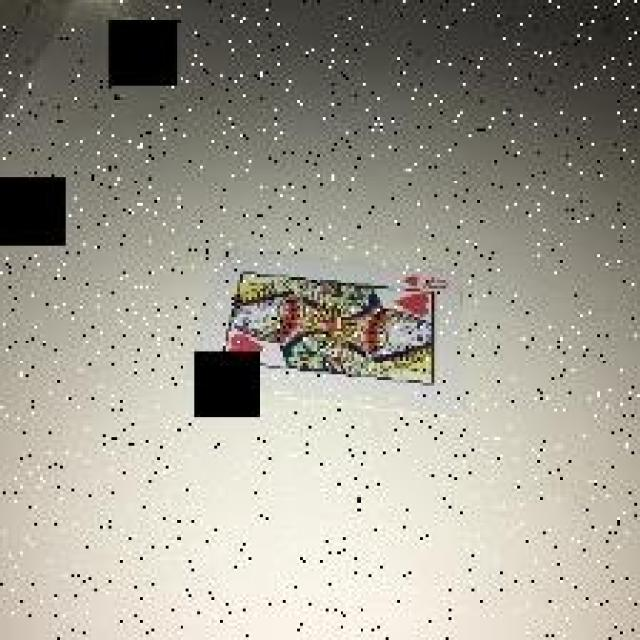Queen of hearts: (208, 249, 460, 416)
